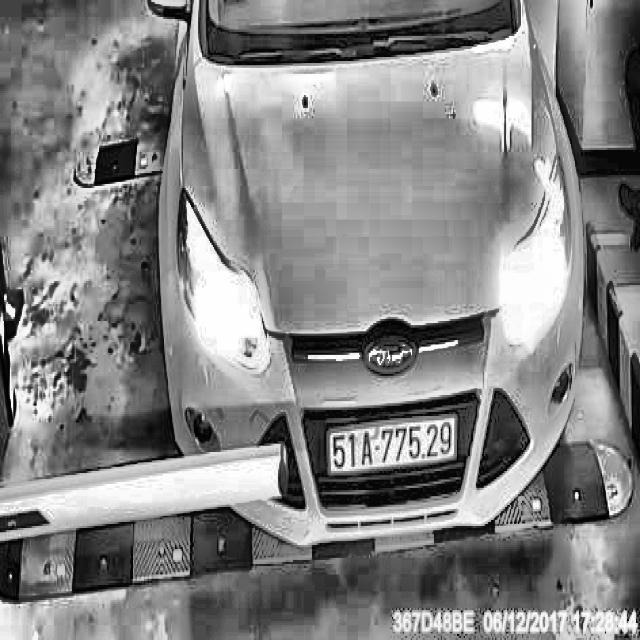plate: (324, 407, 460, 480)
